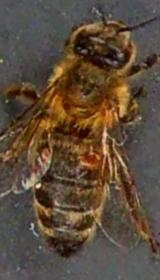varroa_mite: (70, 144, 106, 171)
